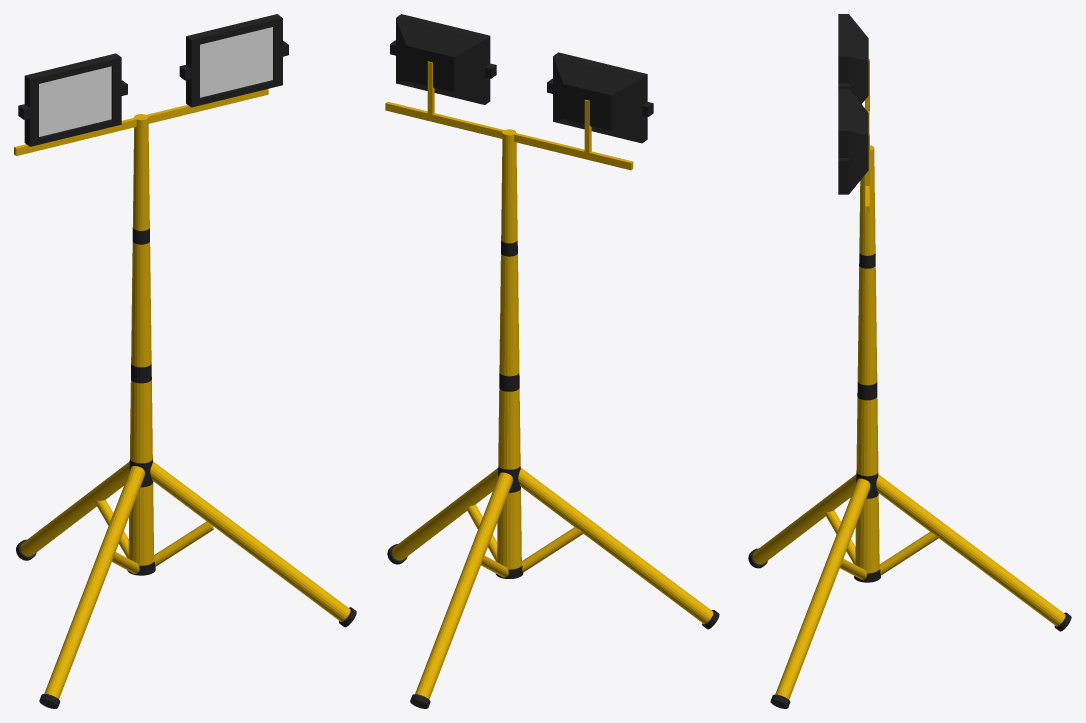
Rendered from ranicki reflektori.fbx.
The picture shows the model from 3 angles, left to right: view 1: azimuth 30°, elevation 25°; view 2: azimuth 150°, elevation 25°; view 3: azimuth 270°, elevation 25°; orthographic projection. The views are drawn at different scales.
Visible parts, largest first — view 1: Cylinder, Cube.002, Cube.003, Cylinder.001, Cylinder.003, Cylinder.002, Cylinder.005; view 2: Cylinder, Cube.002, Cube.003, Cylinder.002, Cylinder.001, Cylinder.003, Cylinder.004; view 3: Cylinder, Cylinder.003, Cylinder.002, Cube.003, Cube.002, Cylinder.001, Cylinder.006.
Part boxes in pixels (left/top/right/bottom): Cylinder: left=14, top=89, right=268, bottom=575; Cube.002: left=18, top=53, right=127, bottom=146; Cube.003: left=179, top=14, right=288, bottom=107; Cylinder.001: left=39, top=466, right=144, bottom=708; Cylinder.003: left=150, top=461, right=356, bottom=627; Cylinder.002: left=16, top=461, right=129, bottom=560; Cylinder.005: left=153, top=521, right=213, bottom=566; Cylinder: left=385, top=101, right=633, bottom=578; Cube.002: left=547, top=52, right=653, bottom=143; Cube.003: left=390, top=14, right=496, bottom=104; Cylinder.002: left=410, top=472, right=512, bottom=708; Cylinder.001: left=518, top=467, right=719, bottom=629; Cylinder.003: left=387, top=468, right=498, bottom=564; Cylinder.004: left=521, top=527, right=583, bottom=572; Cylinder: left=854, top=111, right=880, bottom=582; Cylinder.003: left=770, top=478, right=870, bottom=708; Cylinder.002: left=876, top=474, right=1071, bottom=631; Cube.003: left=838, top=88, right=868, bottom=194; Cube.002: left=838, top=14, right=868, bottom=103; Cylinder.001: left=748, top=474, right=856, bottom=568; Cylinder.006: left=879, top=532, right=938, bottom=575.
Bounding box in the file's own units: 205 × 357 × 186.
